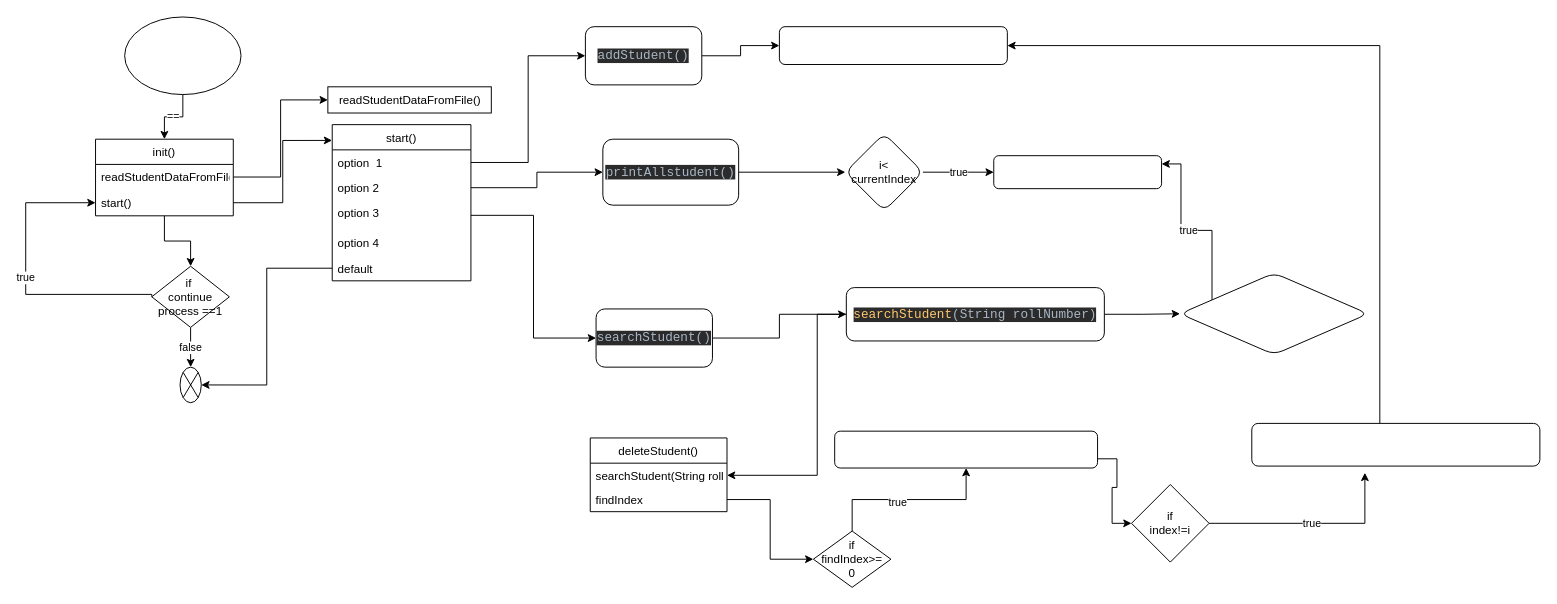
This 1557x604 diagram has some shape labels left out. Here are the shapes that lost their labels. From the top down, the centre of each, then its label:
[182,55]: Main Functon
[892,45]: addStudentToFile (String data)
[1077,172]: printStudents ( int i)
[1273,313]: if rollnumber == student[i].rollNumber
[966,449]: removeStudentFromFile ( int index)
[1395,444]: addStudentToFile (Student student)
